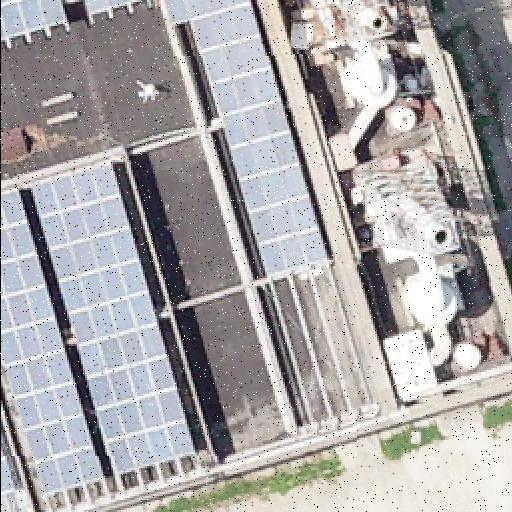solar-panel: (29, 159, 195, 473), (161, 0, 327, 276), (0, 188, 104, 496), (0, 0, 68, 40), (82, 0, 146, 16), (1, 443, 15, 493)
